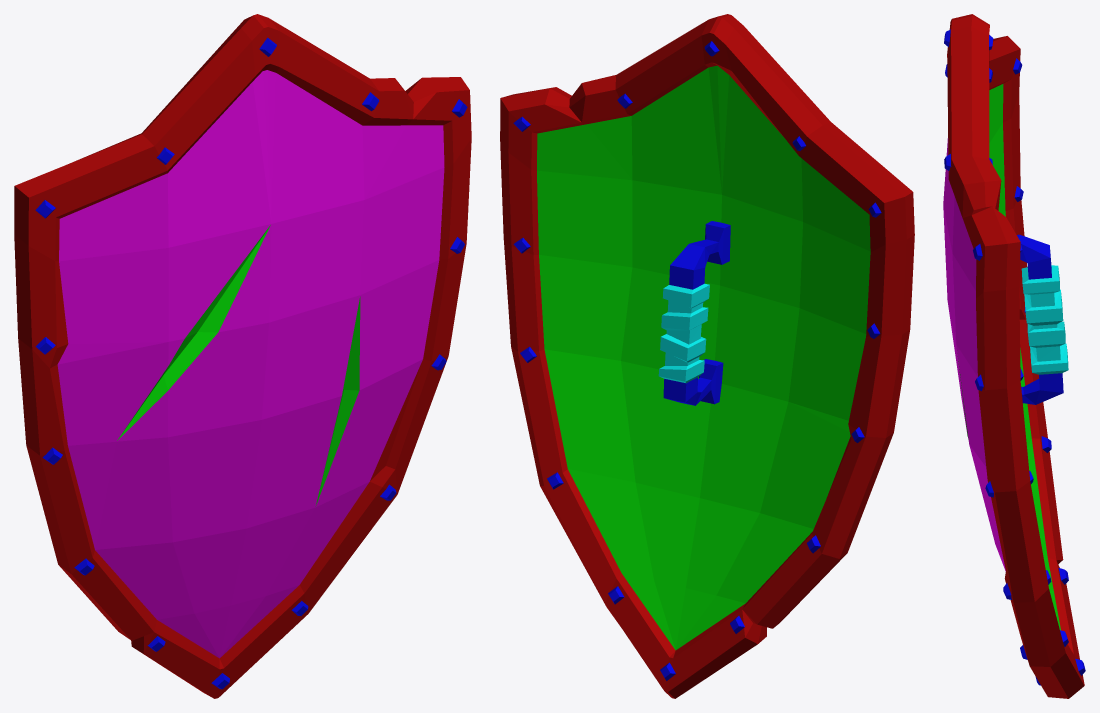
Rendered from Shield_Rare_Royal.fbx.
3 renders of one model, left to right at view 1: azimuth 30°, elevation 25°; view 2: azimuth 150°, elevation 25°; view 3: azimuth 270°, elevation 25°, orthographic. The views are drawn at different scales.
Parts seen in each view (by area): view 1: SM_Wep_Shield_Heater_02; view 2: SM_Wep_Shield_Heater_02; view 3: SM_Wep_Shield_Heater_02.
Part boxes in pixels (left/top/right/bottom): SM_Wep_Shield_Heater_02: left=14, top=14, right=471, bottom=698; SM_Wep_Shield_Heater_02: left=500, top=14, right=914, bottom=698; SM_Wep_Shield_Heater_02: left=943, top=14, right=1085, bottom=698.
Size of the model in its own units: 0.6561 by 0.9995 by 0.189.
